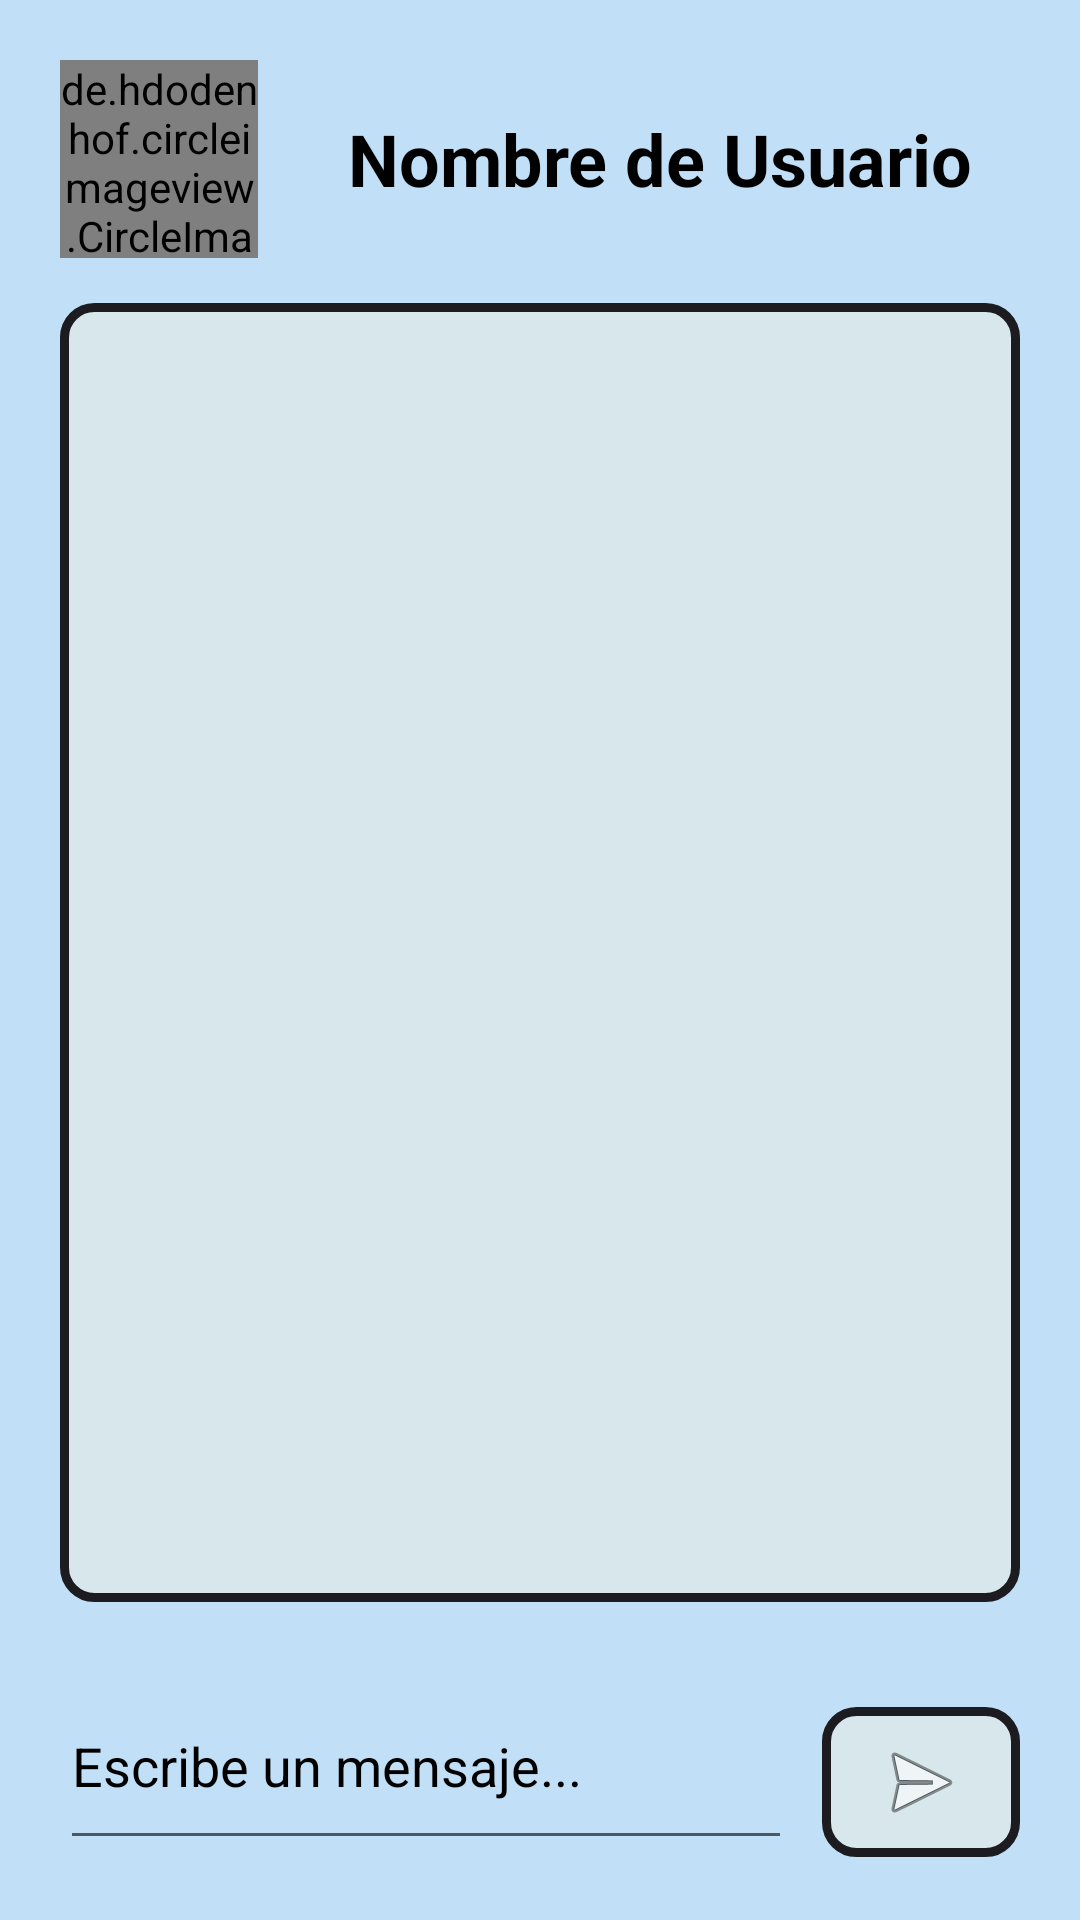

Icon bounding boxes for this 1080w x 1920h phone screenshot, format [x1=x1, y1=y1, x2=x2, y2=y2]:
send: [x1=822, y1=1707, x2=1020, y2=1857]
